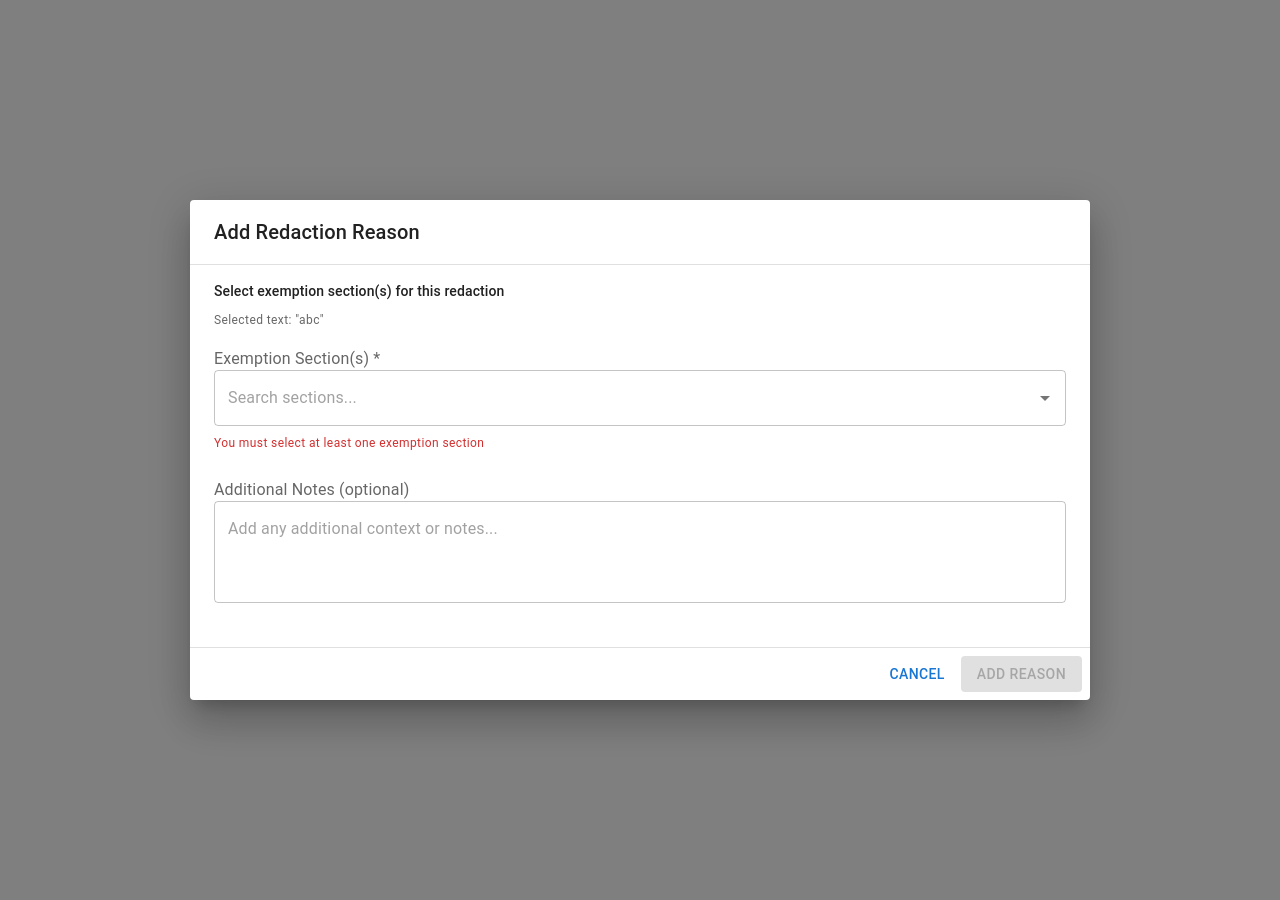
Test: ReasonPickerModal › selecting multiple sections shows primary section caption
This screenshot has width=1280, height=900.
What coordinates should you click on to do the following:
click the dropdown with placeholder "Search sections..."
I would click on:
 (625, 398)
Its box is [223,379,1027,417].
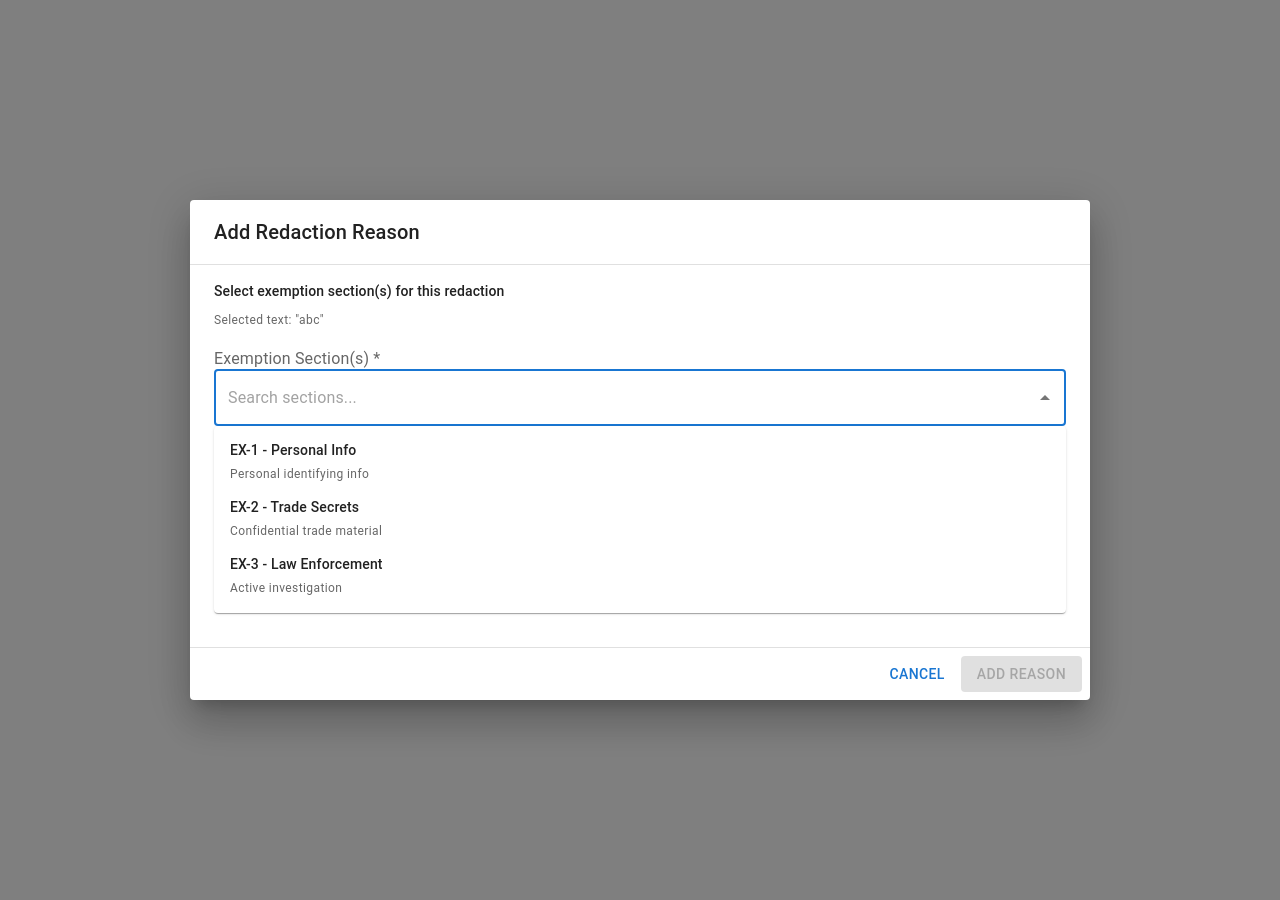
What coordinates should you click on to do the following:
click the text "EX-1 - Personal Info"
I would click on:
 (300, 450)
Its box is [230,440,369,460].
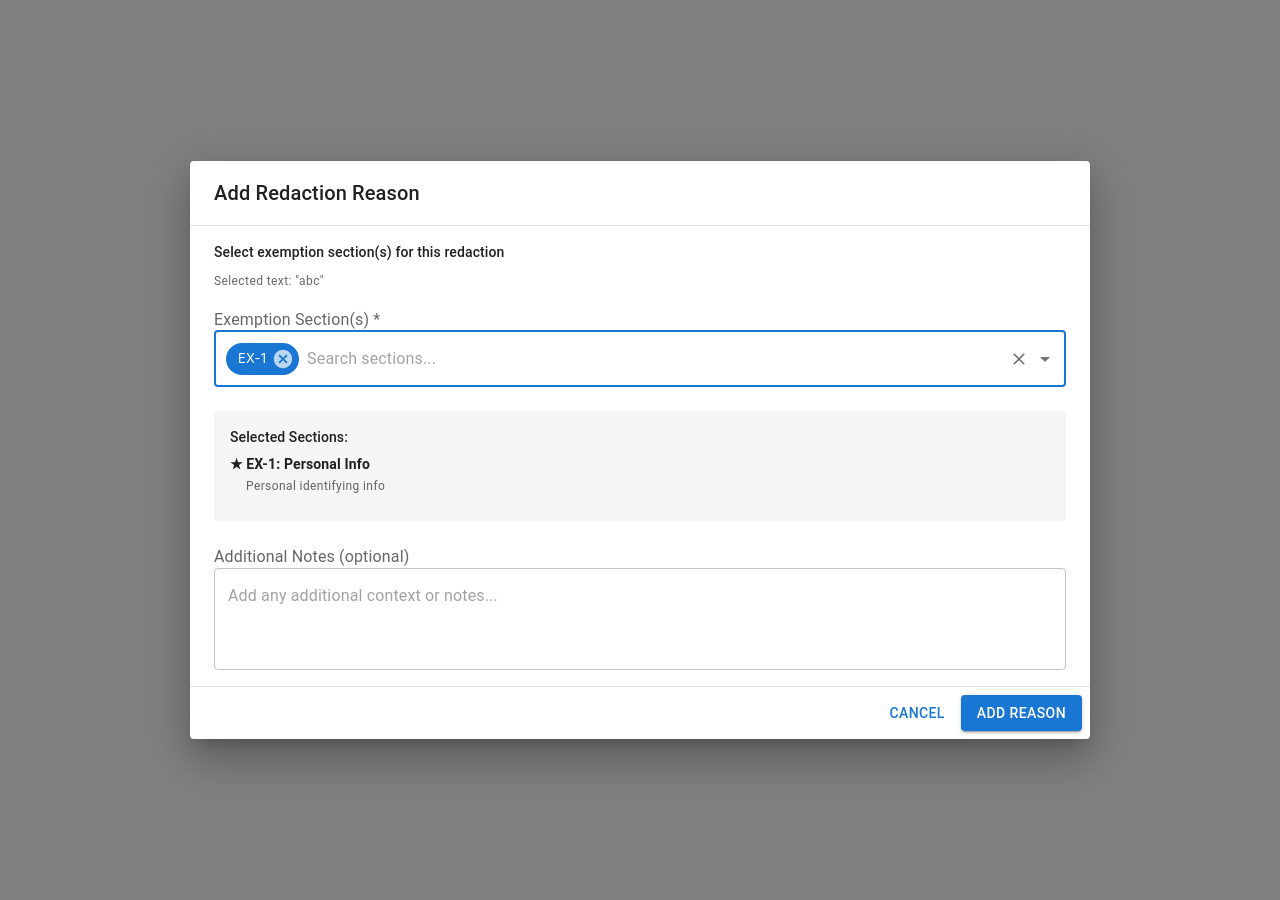
What coordinates should you click on to do the following:
click the dropdown with placeholder "Search sections..."
I would click on:
 (652, 359)
Its box is [302,340,1001,378].
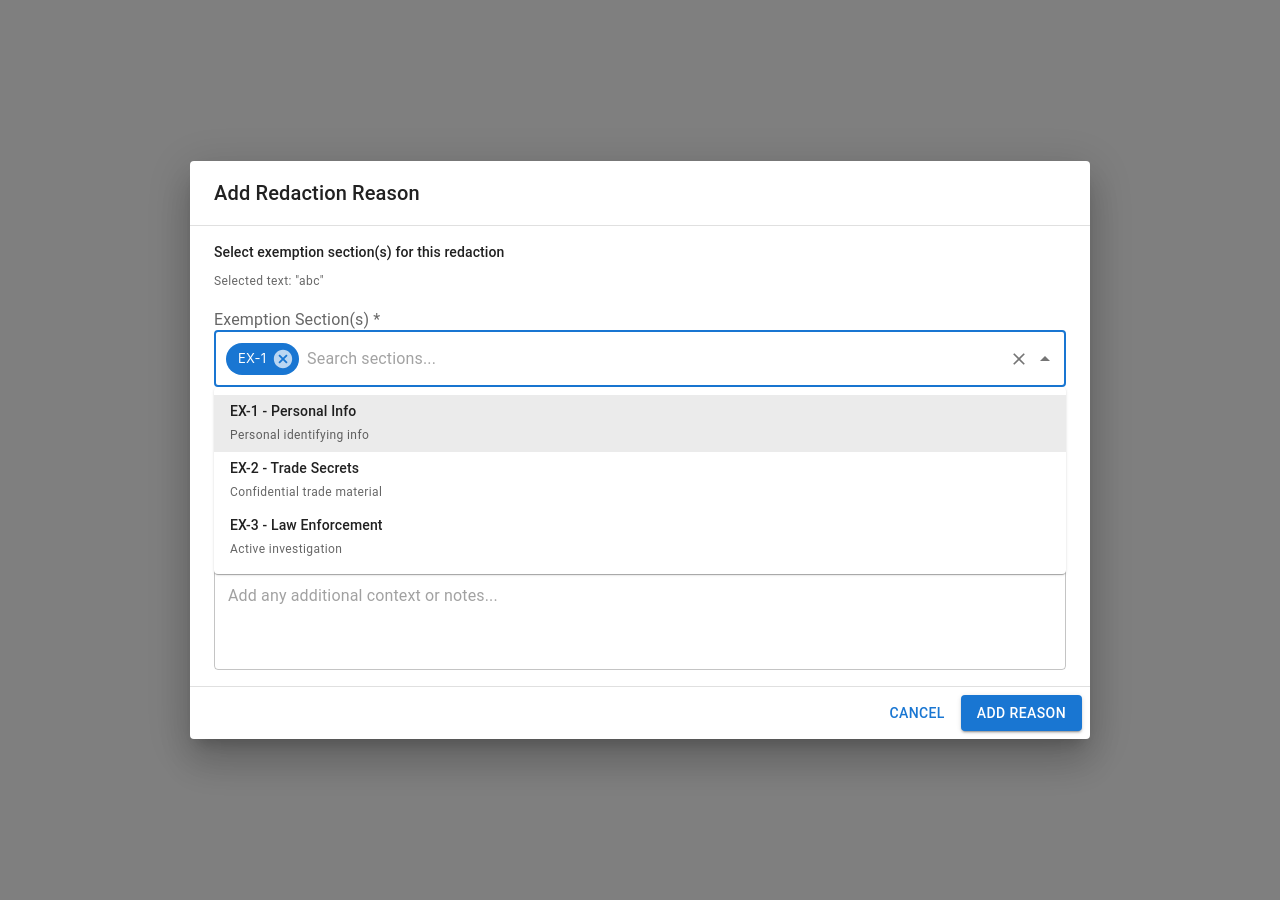
What coordinates should you click on to do the following:
click the text "EX-2 - Trade Secrets"
I would click on:
 (295, 468)
Its box is [230,460,359,476].
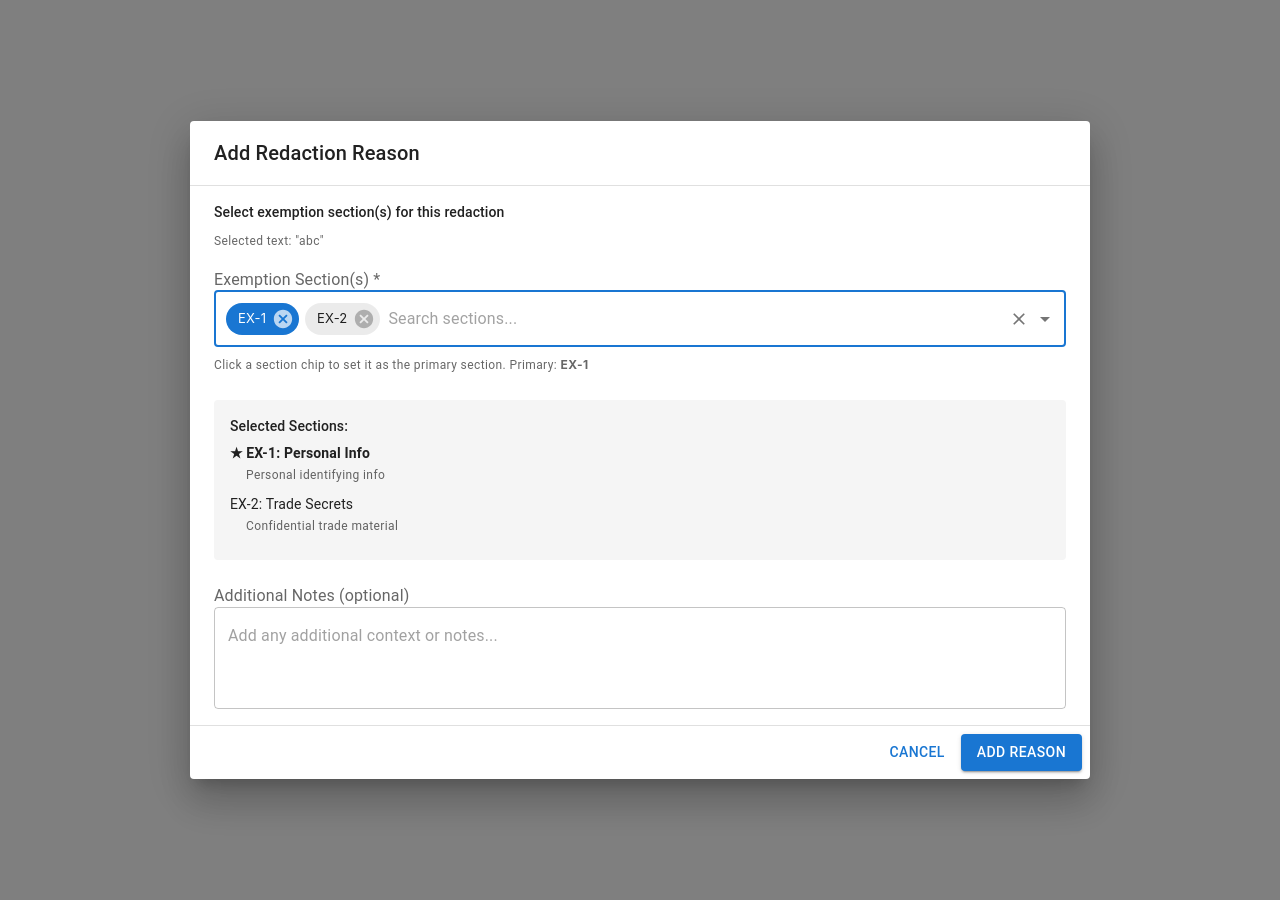
Expected: the text "Primary:" is shown, [214,358,560,372]
